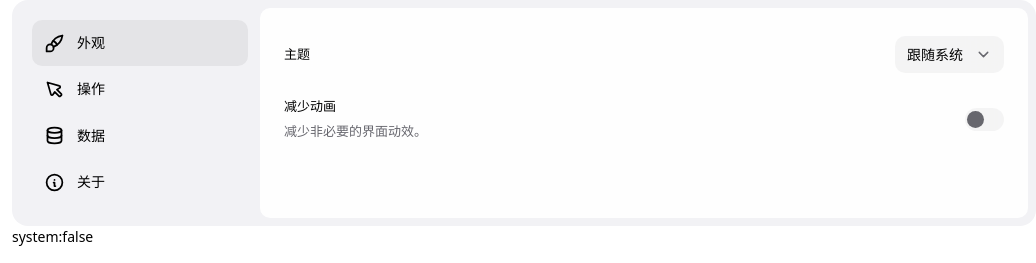
Scenario: 软件设置直接应用 › 首次激活展示，主题选择和动画开关直接写入并更新共享外观资源
Click the dropdown named "主题". click: point(950, 54)
box: [895,36,1004,73]
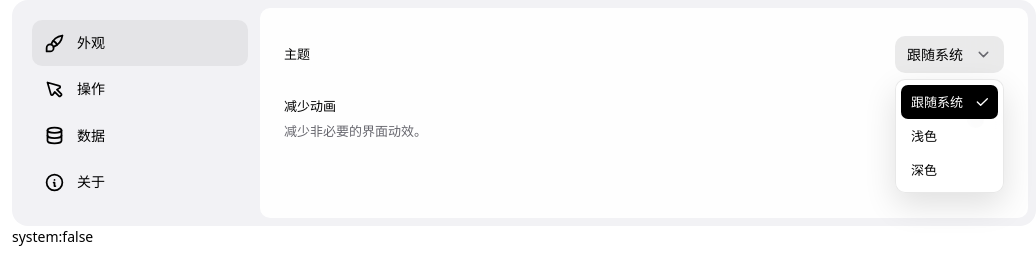
Click the option "深色". click: point(924, 170)
box: [911,161,937,179]
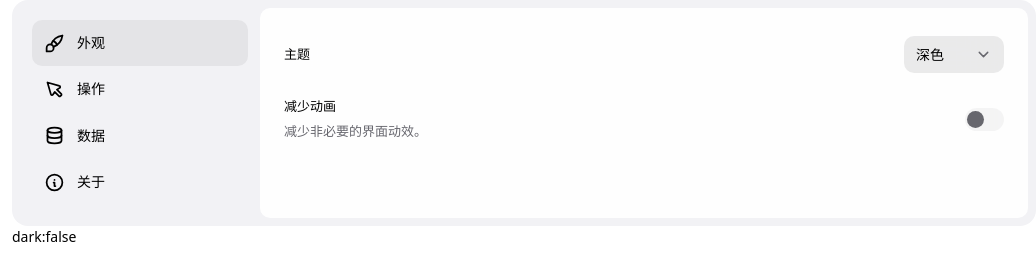
Click the switch named "减少动画". click: point(984, 119)
box: [965,108,1004,131]
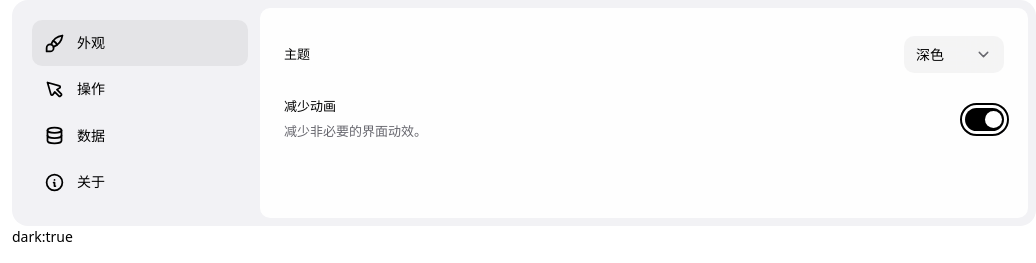
Result: the text with test id "appearance-preview" reads "dark:true" at [12,227,73,246]
